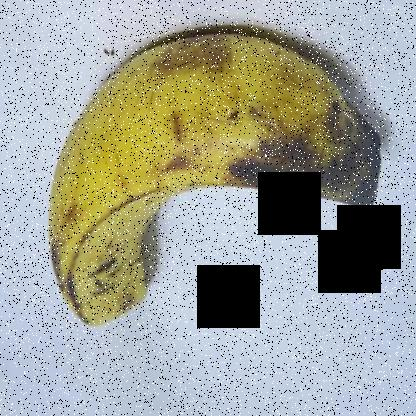ripe: (32, 22, 381, 336)
